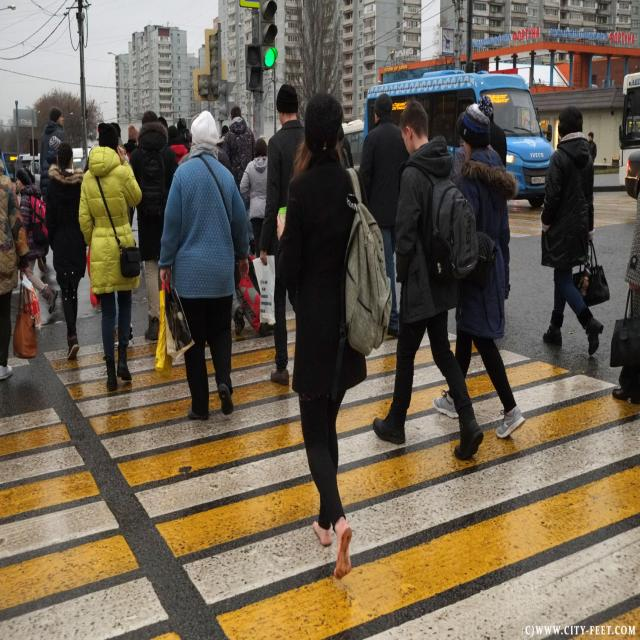Barefoots: (334, 522, 352, 580), (313, 520, 332, 546)
